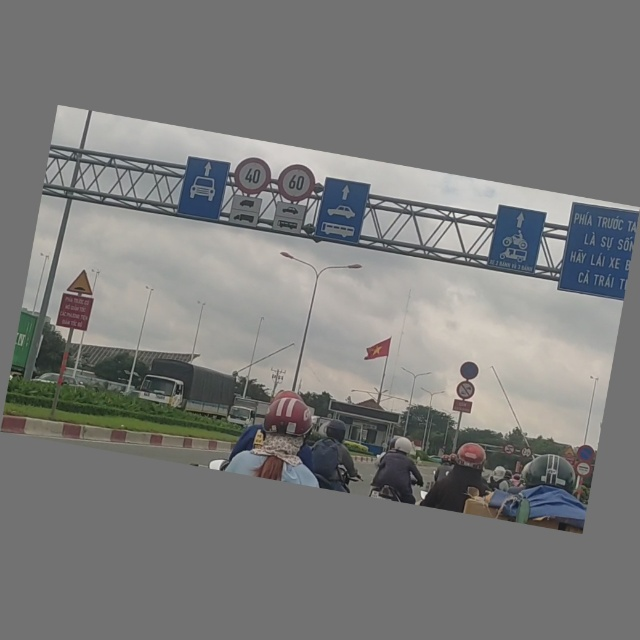P.107: (519, 447, 533, 460), (502, 444, 516, 456)
P.111: (455, 381, 476, 402)
P.127*40: (232, 155, 274, 199)
P.127*60: (274, 162, 318, 206)
P.129: (575, 462, 592, 479)
P.130: (459, 361, 481, 382)
P.131a: (577, 446, 596, 464)
W.221b: (66, 267, 97, 297), (561, 446, 578, 459)
